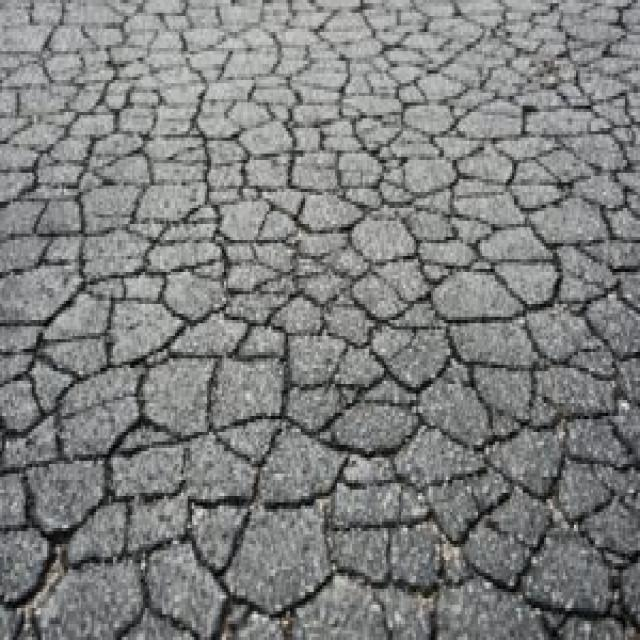Drain Hole: (104, 91, 640, 640)
